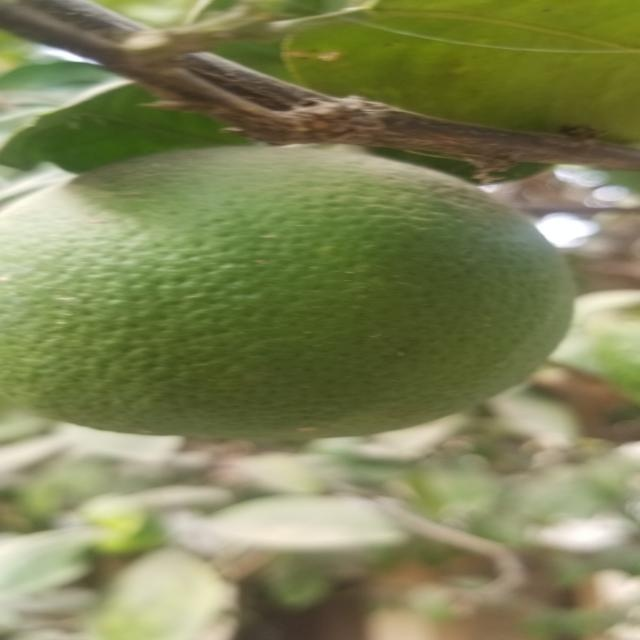agrume: (3, 151, 581, 438)
